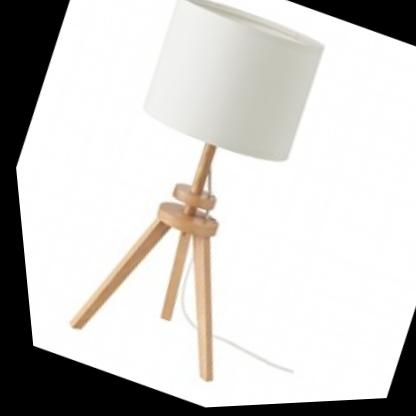Lamp: (0, 0, 376, 408)
